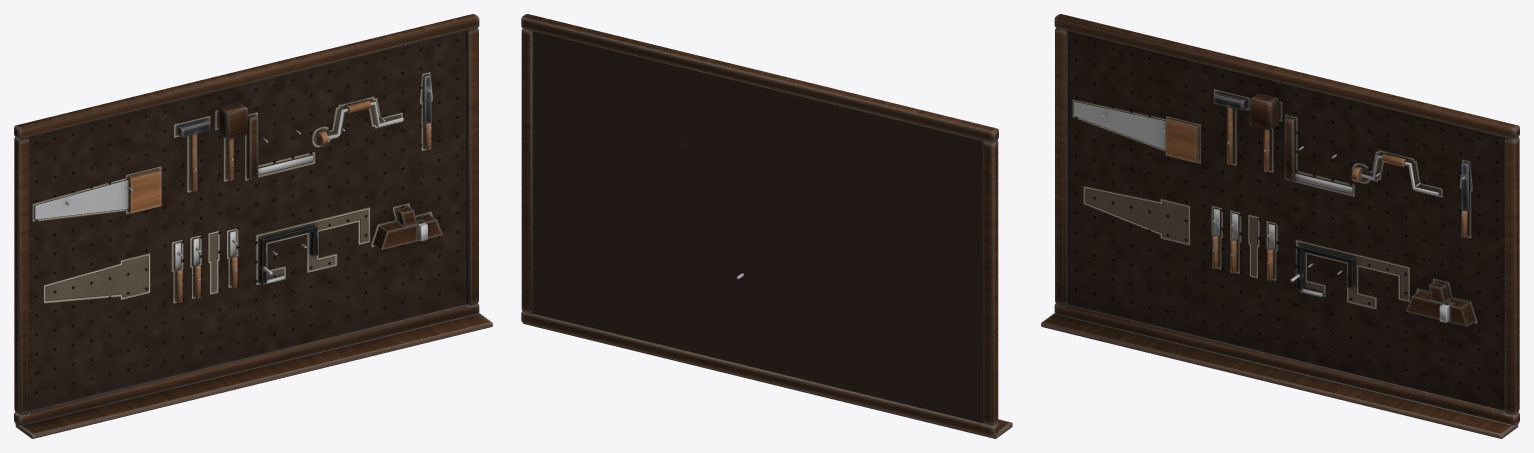
File: ToolWall.fbx
3 views of the same model, side by side, from view 1: azimuth 30°, elevation 25°; view 2: azimuth 150°, elevation 25°; view 3: azimuth 330°, elevation 25° (orthographic). The views are drawn at different scales.
Visible parts, largest first — view 1: ToolWall; view 2: ToolWall; view 3: ToolWall.
Boxes of the visible parts, x1=… form: ToolWall: x1=14, y1=14, x2=492, y2=438; ToolWall: x1=521, y1=14, x2=1012, y2=438; ToolWall: x1=1041, y1=14, x2=1519, y2=438.
Size of the model in its own units: 630 by 393 by 54.
